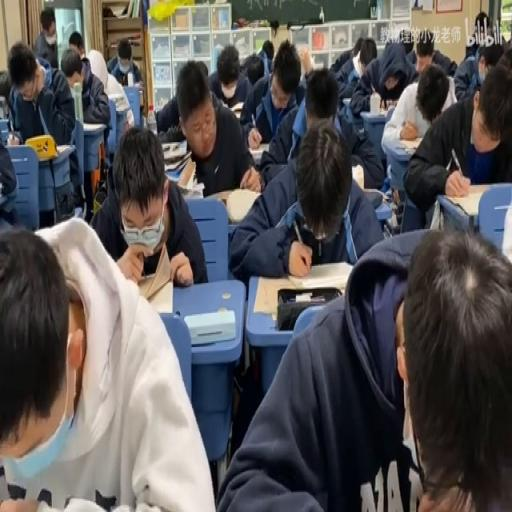calculator: (251, 264, 352, 316), (185, 307, 235, 343), (141, 270, 173, 312), (226, 186, 258, 225), (107, 84, 130, 111), (160, 139, 186, 161), (365, 185, 390, 205), (179, 179, 205, 198), (208, 186, 233, 205), (248, 141, 270, 161), (396, 135, 422, 151), (164, 161, 186, 179), (82, 118, 104, 132), (360, 110, 388, 120), (229, 100, 244, 116), (55, 144, 71, 156), (341, 94, 350, 105)
paper: (396, 223, 511, 512), (227, 112, 381, 289), (90, 124, 204, 288), (404, 61, 510, 222), (0, 228, 71, 458), (65, 46, 113, 216), (7, 40, 74, 148), (154, 58, 218, 140), (453, 23, 502, 98), (206, 40, 248, 114), (330, 33, 375, 101), (406, 27, 456, 78), (302, 65, 339, 128), (106, 36, 142, 86), (0, 128, 18, 226), (34, 7, 60, 68), (244, 53, 265, 84), (0, 71, 12, 111), (68, 30, 85, 58), (474, 10, 490, 38), (398, 28, 414, 54), (497, 41, 512, 68), (261, 40, 274, 61), (195, 58, 208, 77), (352, 37, 364, 57), (464, 42, 477, 58)
